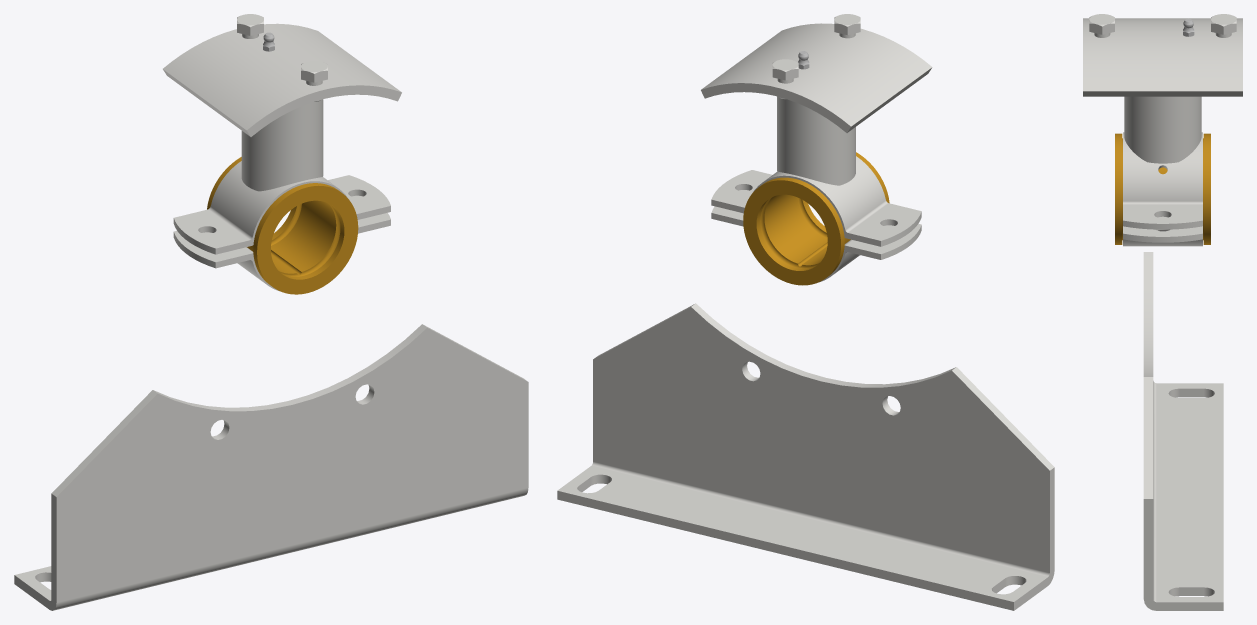
The model's file is 17855 Intermediate bearing 200.obj.
The picture shows the model from 3 angles, left to right: view 1: azimuth 30°, elevation 25°; view 2: azimuth 150°, elevation 25°; view 3: azimuth 270°, elevation 25°; orthographic projection. The views are drawn at different scales.
Parts seen in each view (by area): view 1: Solid2:6, Solid2:4, Solid2, Solid2:3, Solid2:5, Solid2:2, Solid2:1; view 2: Solid2:6, Solid2:4, Solid2, Solid2:3, Solid2:5, Solid2:2, Solid2:1; view 3: Solid2:6, Solid2:4, Solid2, Solid2:5, Solid2:1, Solid2:2, Solid1:1, Solid1:2, Solid2:3.
Part boxes in pixels (x1=…): Solid2:6: x1=14, y1=324, x2=528, y2=610; Solid2:4: x1=163, y1=23, x2=401, y2=136; Solid2: x1=173, y1=161, x2=390, y2=254; Solid2:3: x1=247, y1=202, x2=358, y2=294; Solid2:5: x1=241, y1=99, x2=323, y2=191; Solid2:2: x1=207, y1=157, x2=358, y2=252; Solid2:1: x1=173, y1=195, x2=390, y2=291; Solid2:6: x1=557, y1=303, x2=1054, y2=610; Solid2:4: x1=701, y1=23, x2=932, y2=132; Solid2: x1=711, y1=156, x2=921, y2=246; Solid2:3: x1=743, y1=196, x2=850, y2=285; Solid2:5: x1=777, y1=96, x2=855, y2=185; Solid2:2: x1=743, y1=152, x2=889, y2=244; Solid2:1: x1=711, y1=190, x2=921, y2=282; Solid2:6: x1=1143, y1=252, x2=1223, y2=610; Solid2:4: x1=1083, y1=18, x2=1242, y2=96; Solid2: x1=1123, y1=132, x2=1202, y2=229; Solid2:5: x1=1124, y1=96, x2=1201, y2=163; Solid2:1: x1=1123, y1=216, x2=1202, y2=246; Solid2:2: x1=1115, y1=133, x2=1210, y2=212; Solid1:1: x1=1211, y1=14, x2=1236, y2=37; Solid1:2: x1=1089, y1=14, x2=1114, y2=37; Solid2:3: x1=1115, y1=211, x2=1210, y2=244.
Bounding box in the file's own units: 324 × 332 × 100.
